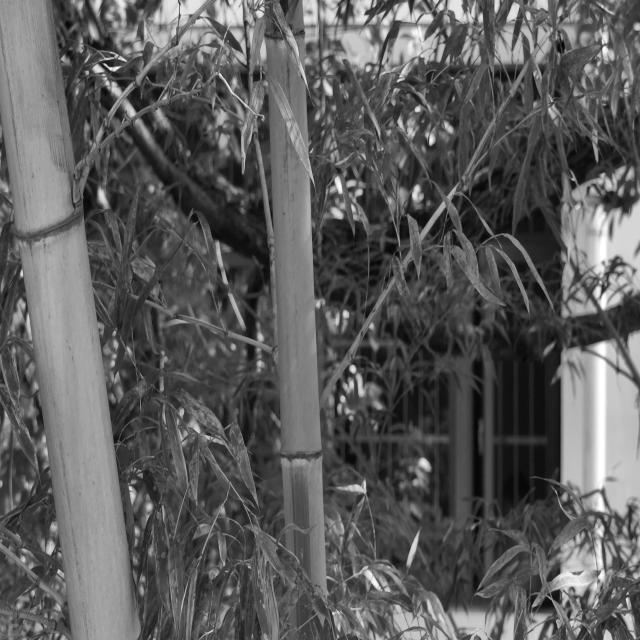Bamboo-shoots: (2, 0, 142, 640), (267, 0, 326, 640)
